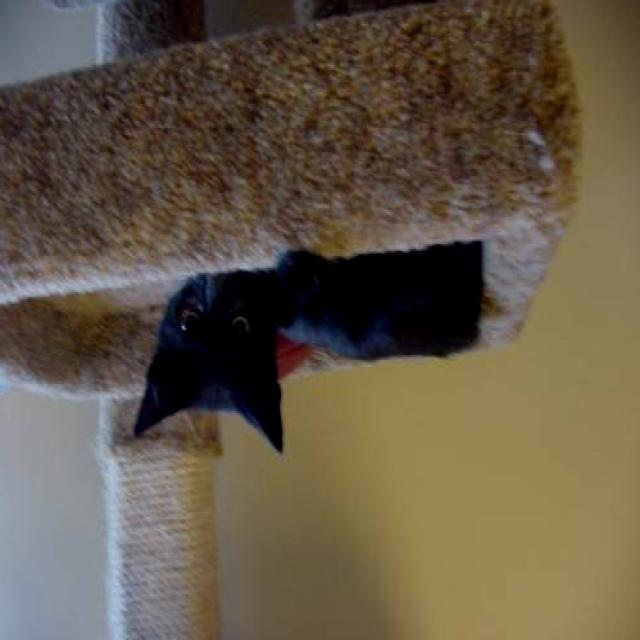Kucing: (131, 227, 456, 554)
